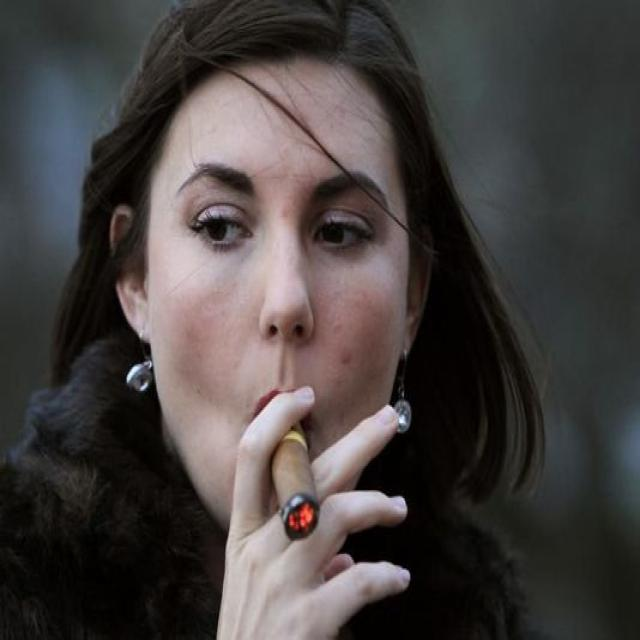human: (25, 5, 558, 640)
